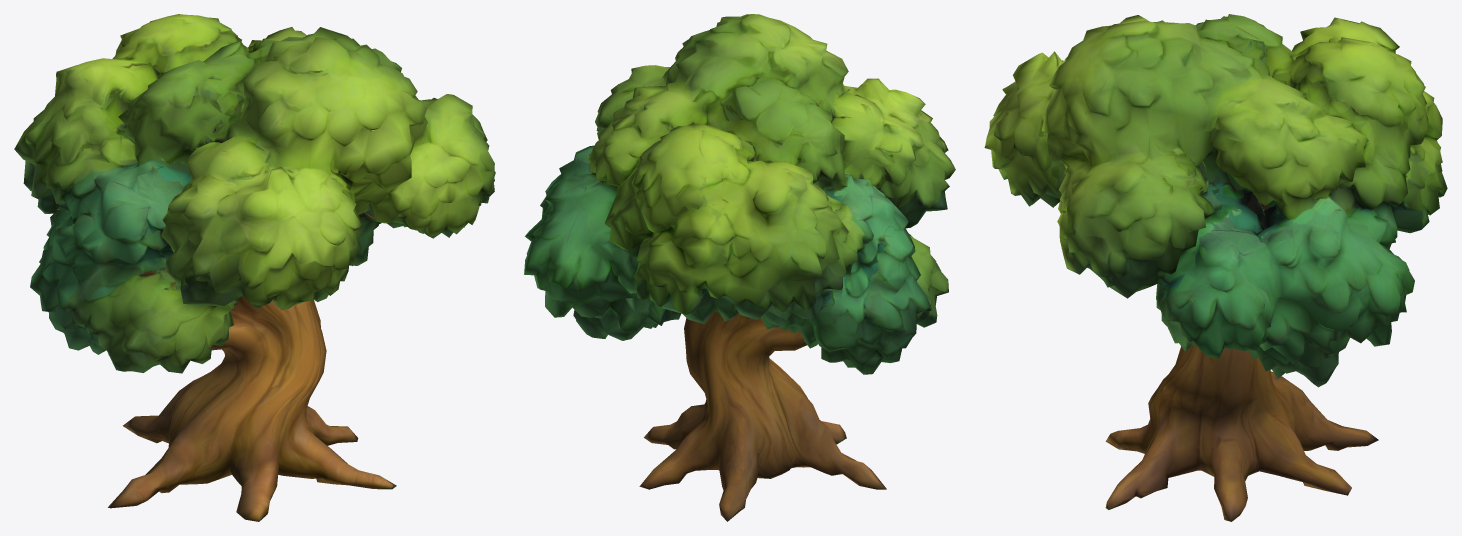
File: Verdant_Haven_1006114359_texture.fbx
The picture shows the model from 3 angles, left to right: view 1: azimuth 30°, elevation 25°; view 2: azimuth 150°, elevation 25°; view 3: azimuth 270°, elevation 25°; orthographic projection. The views are drawn at different scales.
Parts seen in each view (by area): view 1: input; view 2: input; view 3: input.
Boxes of the visible parts, x1,y1,x2,y2 form: input: (14, 14, 495, 521); input: (524, 14, 955, 521); input: (984, 14, 1447, 521).
Size of the model in its own units: 186 by 191 by 175.
1 material, 1 textured.
